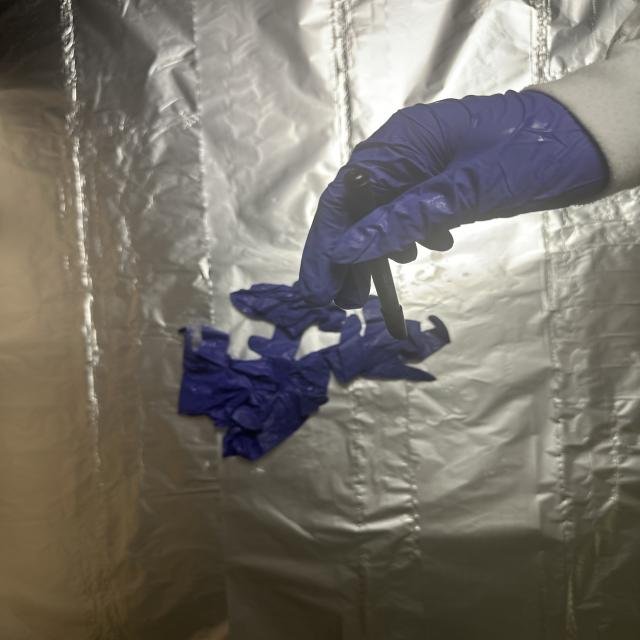gloves_contaminated: (298, 91, 608, 309)
